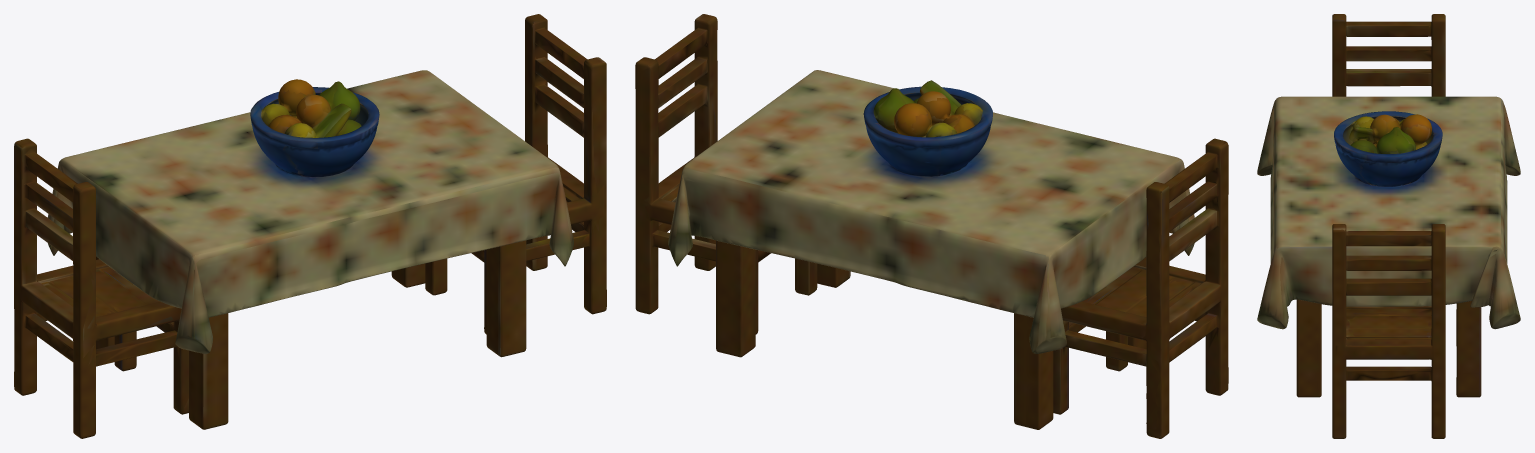
Rendered from fruit_table_psx.glb.
3 renders of one model, left to right at view 1: azimuth 30°, elevation 25°; view 2: azimuth 150°, elevation 25°; view 3: azimuth 270°, elevation 25°, orthographic. The views are drawn at different scales.
Parts seen in each view (by area): view 1: node_0; view 2: node_0; view 3: node_0.
Boxes of the visible parts, x1,y1,x2,y2 form: node_0: (14,14,606,438); node_0: (635,14,1228,438); node_0: (1257,14,1520,438).
Size of the model in its own units: 1.07 by 0.5015 by 0.5507.
1 material, 1 textured.
